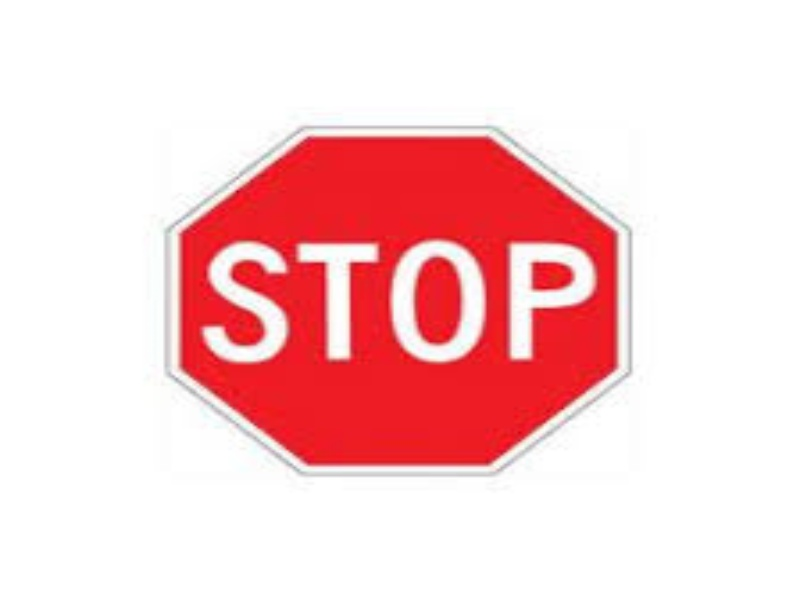Stop_Sign: (169, 124, 632, 477)
